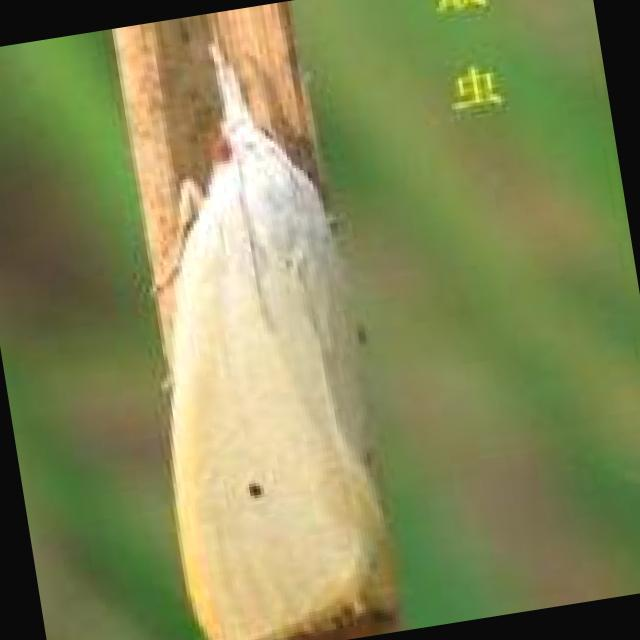stem borer: (166, 44, 395, 639)
